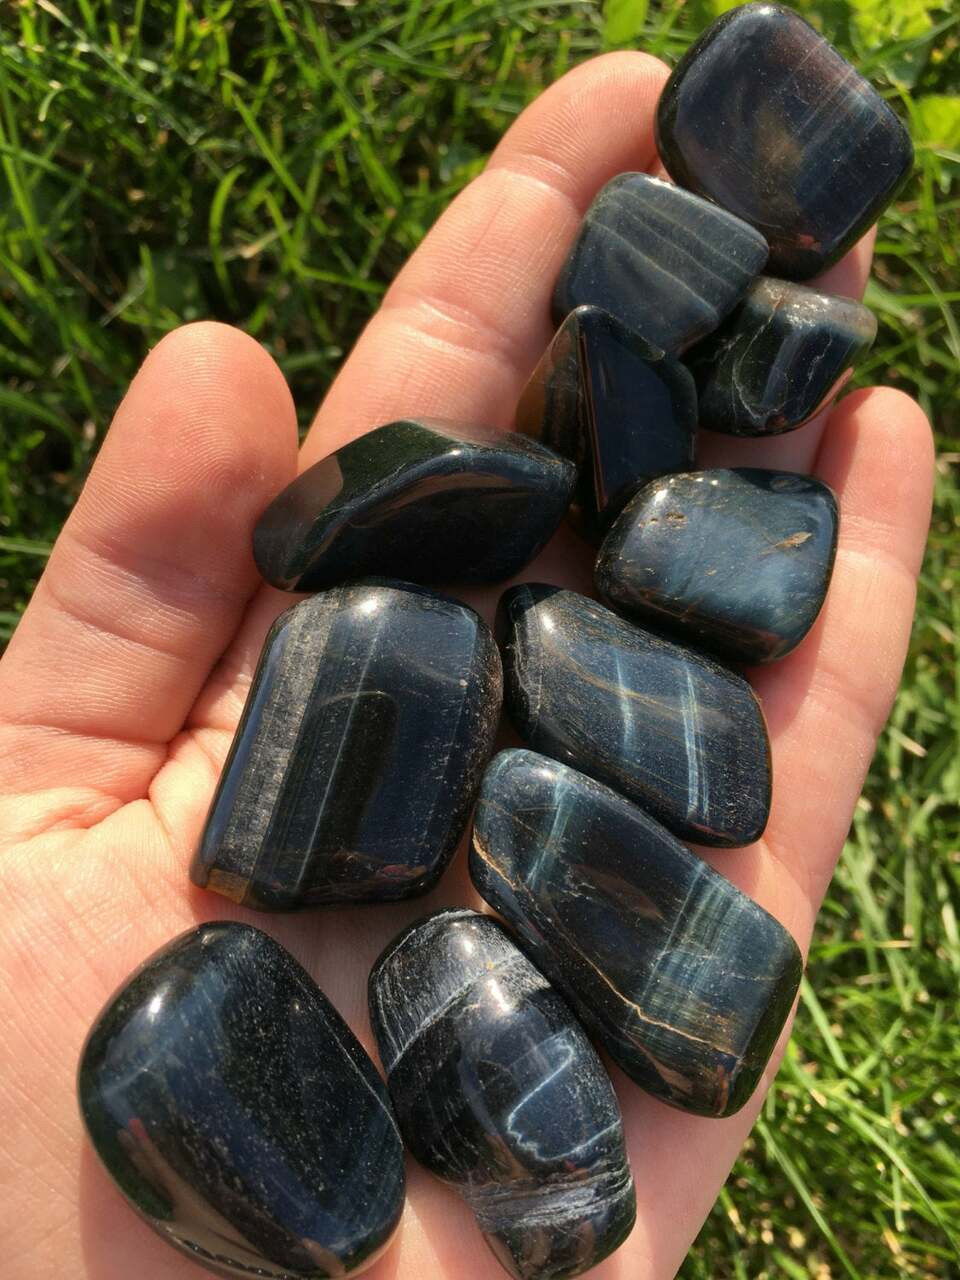Tigers_Eye: (516, 155, 879, 644), (72, 919, 412, 1280), (186, 583, 506, 929)
